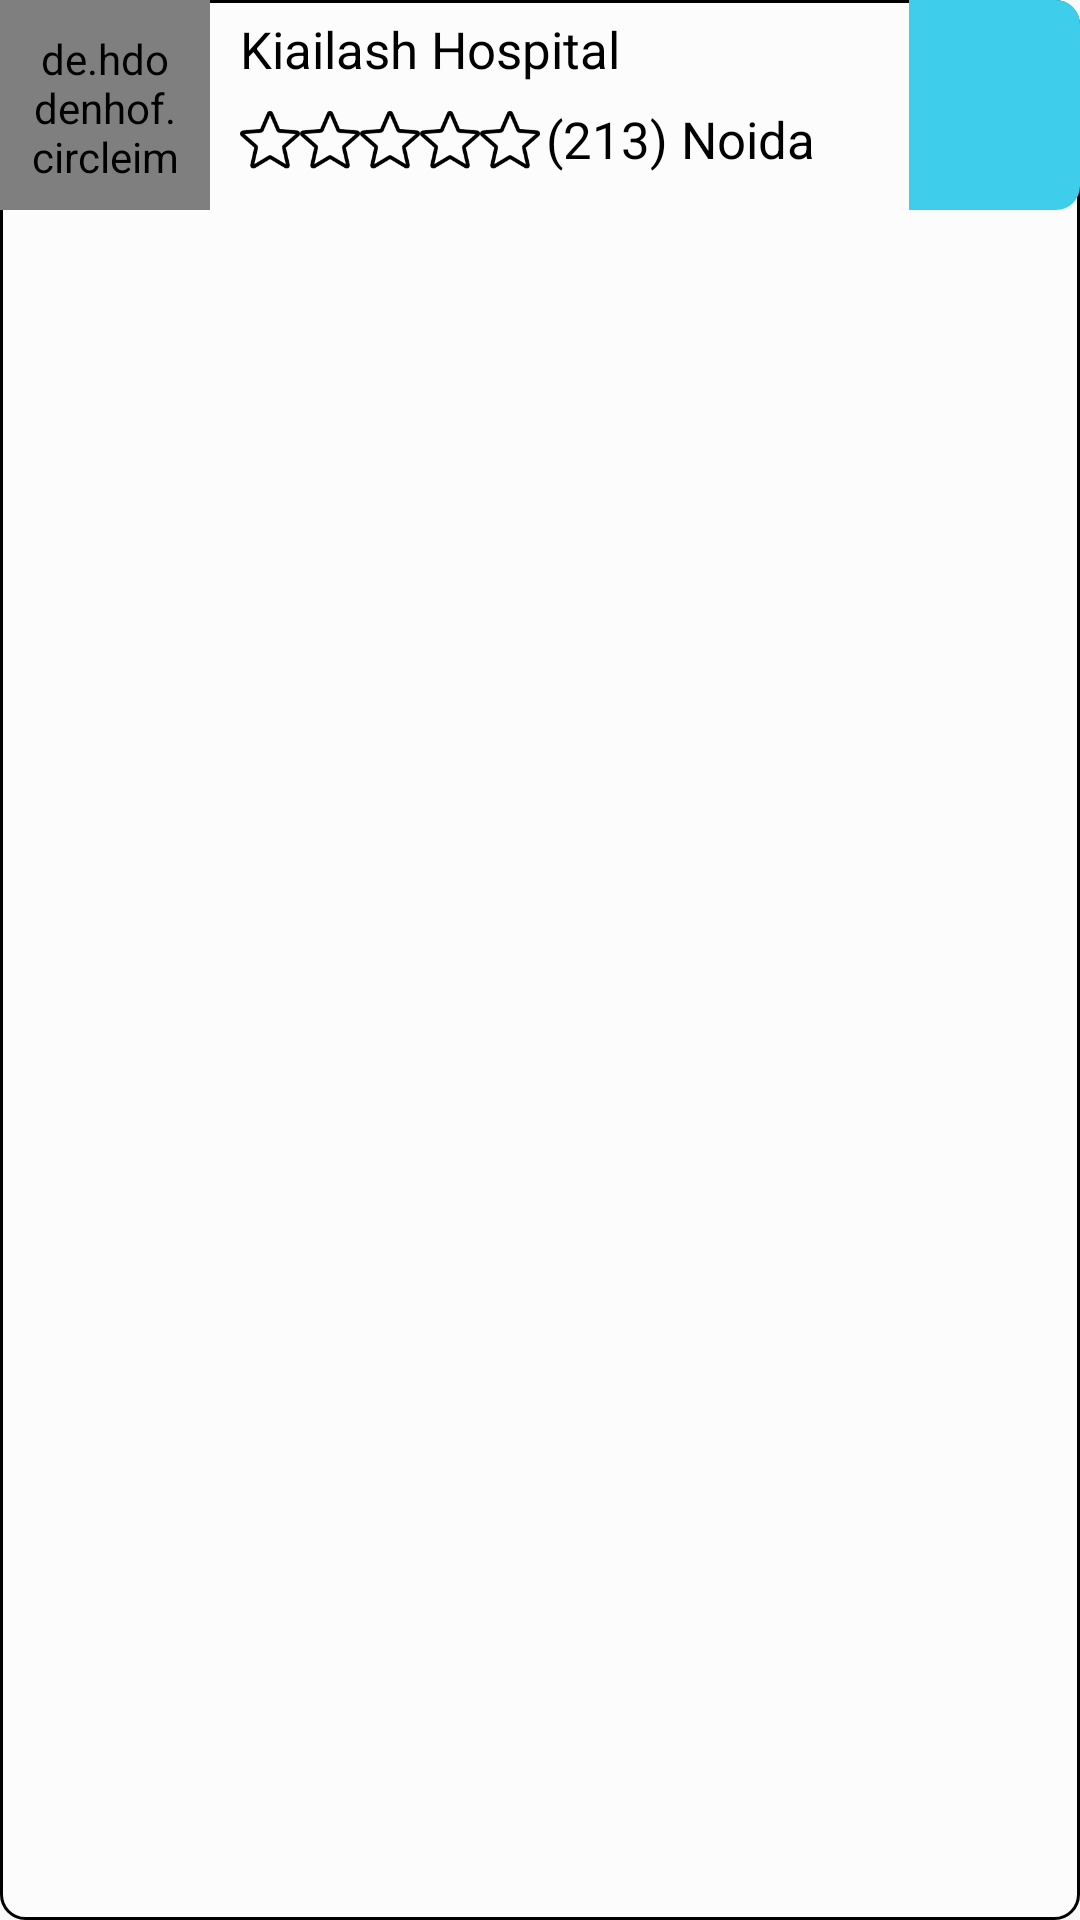

Where to tap for icons on this 1080*1920 app screen, as (x,y):
star: (270,140), (330,140), (390,140), (450,140), (510,140)
